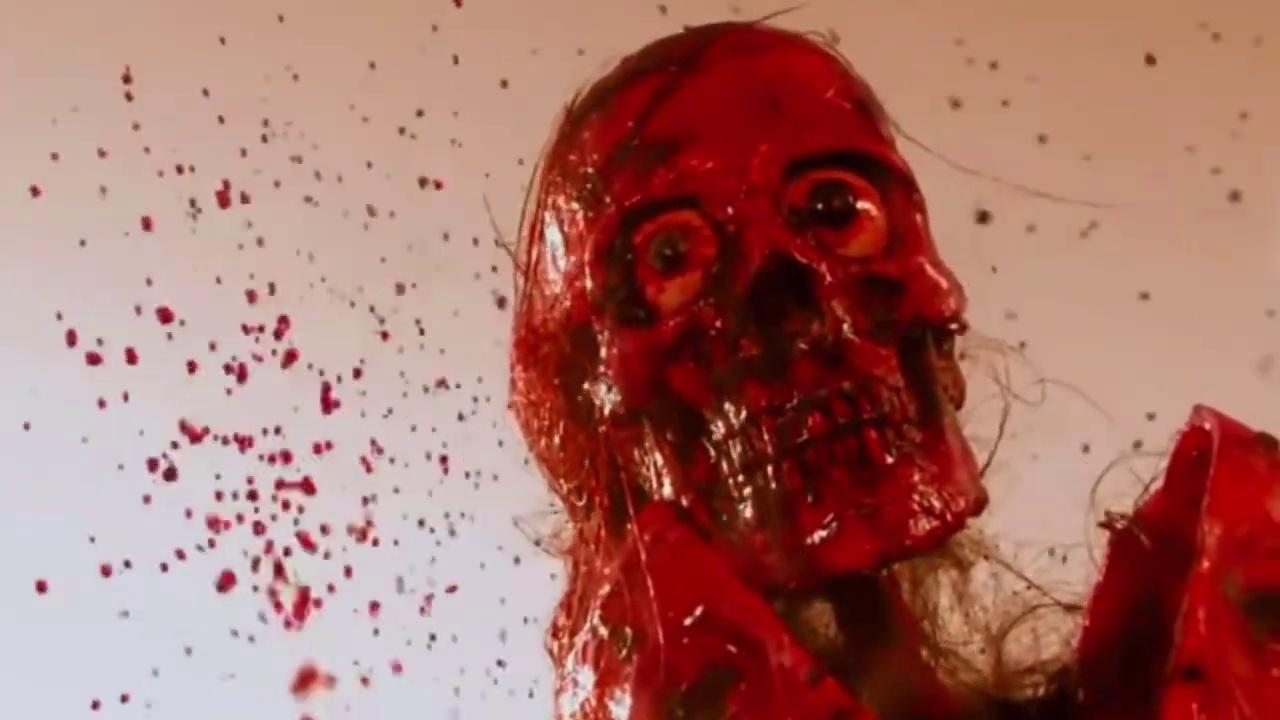Fire: (512, 21, 1280, 719), (0, 93, 559, 717)
